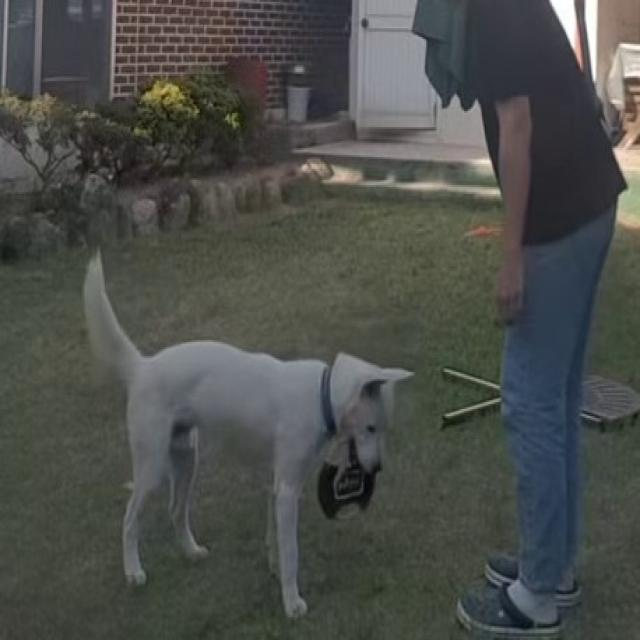Unleashed_Dog: (84, 186, 586, 618)
